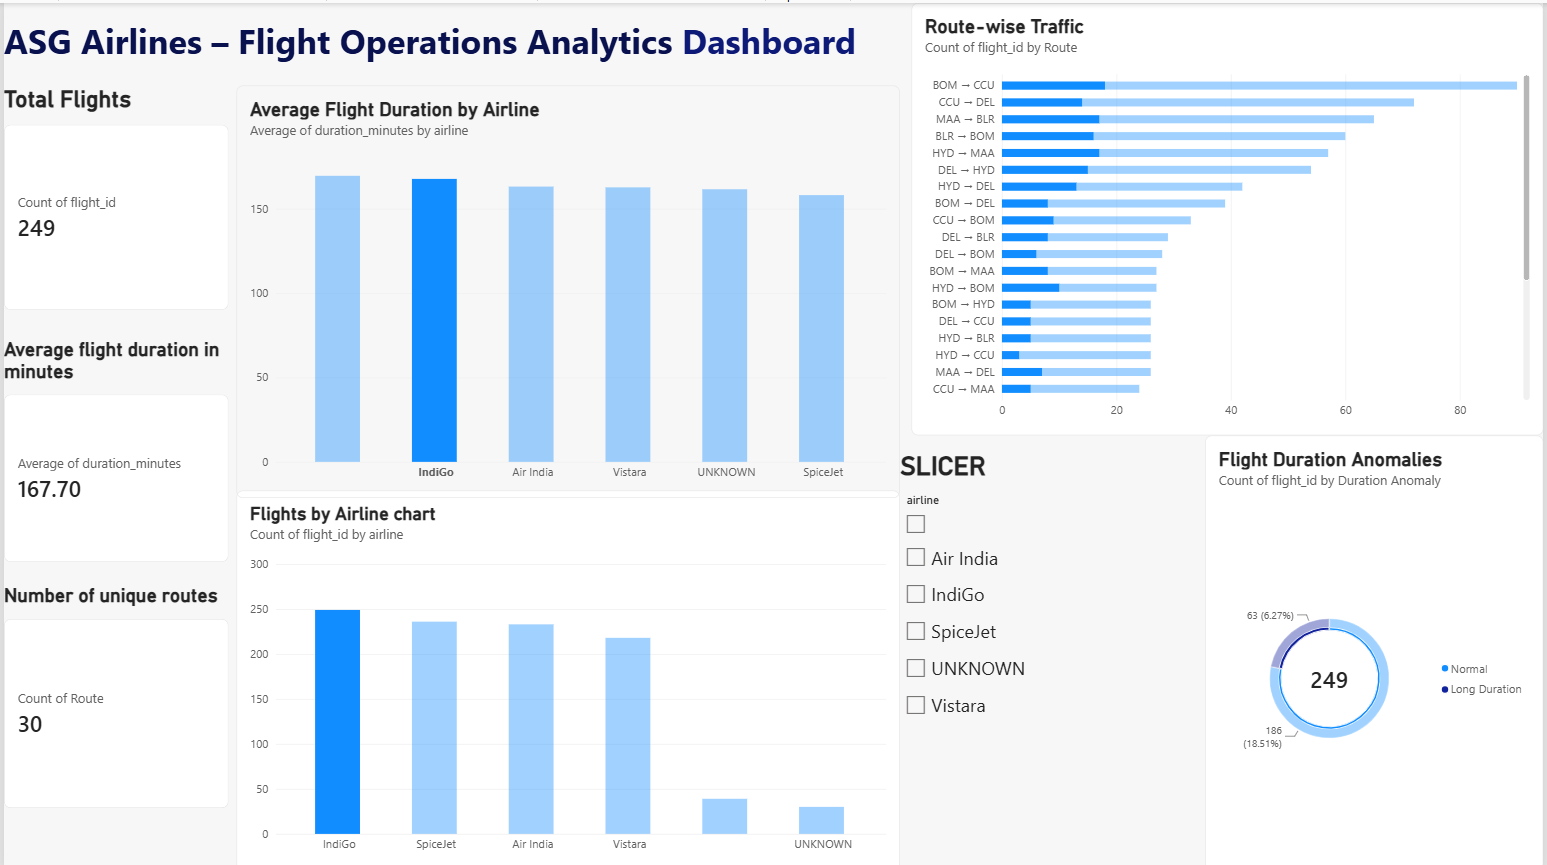

What the dashboard file says about the page in this screenshot:
{"tool":"powerbi","page":{"name":"Page 1","canvas":[1920,1080],"ordinal":0},"visuals":[{"type":"cardVisual","title":"Total Flights","fields":{"Data":["CountNonNull(clean_flights.flight_id)"]},"box":[0,102.9,280,280],"z":0},{"type":"cardVisual","title":"Average flight duration in minutes","fields":{"Data":["Avg(clean_flights.duration_minutes)"]},"box":[0,417.8,280,280],"z":1000},{"type":"cardVisual","title":"Number of unique routes","fields":{"Data":["Count(clean_flights.Route)"]},"box":[0,724.5,280,280],"z":2000},{"type":"clusteredColumnChart","title":"Flights by Airline chart","fields":{"Category":["clean_flights.airline"],"Y":["CountNonNull(clean_flights.flight_id)"]},"box":[290.2,607.2,827.4,473.4],"z":3000},{"type":"clusteredBarChart","title":"Route-wise Traffic","fields":{"Category":["clean_flights.Route"],"Y":["CountNonNull(clean_flights.flight_id)"]},"box":[1132.1,0,788.3,539.3],"z":4000},{"type":"clusteredColumnChart","title":"Average Flight Duration by Airline","fields":{"Category":["clean_flights.airline"],"Y":["Avg(clean_flights.duration_minutes)"]},"box":[290.2,102.9,827.4,514.6],"z":5000},{"type":"slicer","title":"SLICER","fields":{"Values":["clean_flights.airline"]},"box":[1117.7,557.8,788.3,522.8],"z":6000},{"type":"donutChart","title":"Flight Duration Anomalies","fields":{"Category":["clean_flights.Duration Anomaly"],"Y":["CountNonNull(clean_flights.flight_id)"]},"box":[1498.5,539.3,422,541.3],"z":7000},{"type":"textbox","box":[0,16.5,1150.6,382.8],"z":7001}]}

Visuals, with their boxes in screenshot pixels (x1, y1, x2, y2), scaled from the page's 1920x1080 canvas onto the 1547x865 screenshot:
"Total Flights" cardVisual: (left=0, top=82, right=226, bottom=307)
"Average flight duration in minutes" cardVisual: (left=0, top=335, right=226, bottom=559)
"Number of unique routes" cardVisual: (left=0, top=580, right=226, bottom=805)
"Flights by Airline chart" clusteredColumnChart: (left=234, top=486, right=900, bottom=864)
"Route-wise Traffic" clusteredBarChart: (left=912, top=0, right=1546, bottom=432)
"Average Flight Duration by Airline" clusteredColumnChart: (left=234, top=82, right=900, bottom=495)
"SLICER" slicer: (left=901, top=447, right=1536, bottom=864)
"Flight Duration Anomalies" donutChart: (left=1207, top=432, right=1546, bottom=864)
textbox: (left=0, top=13, right=927, bottom=320)
